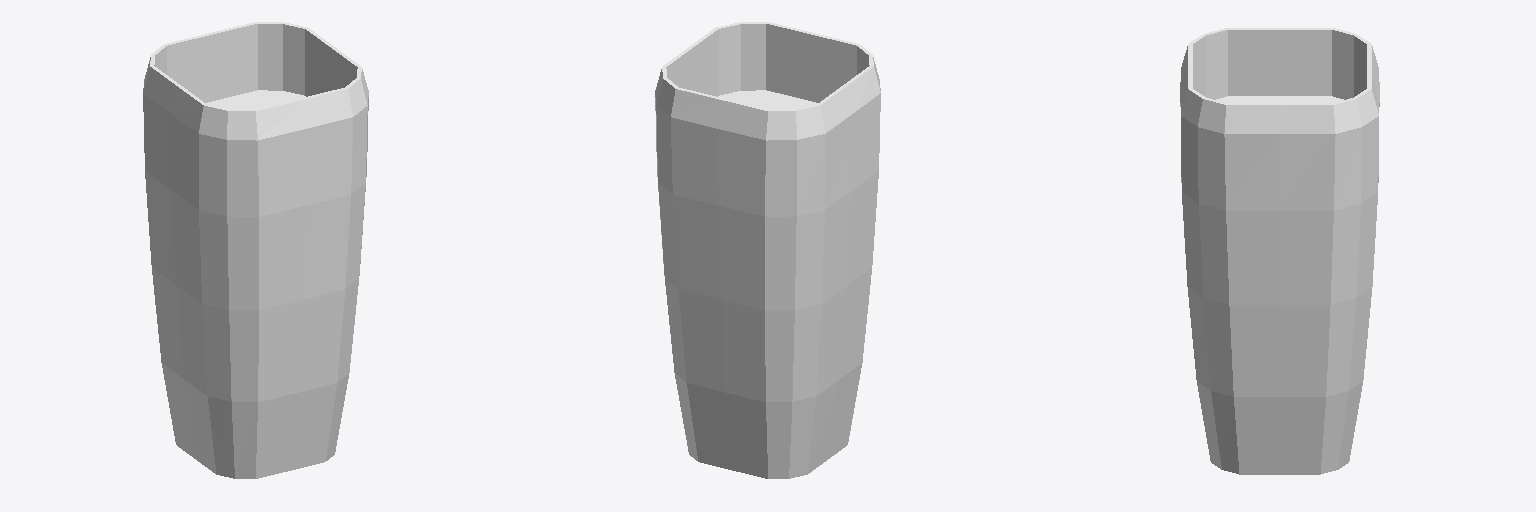
Rendered from 877953_LAVABO.obj.
The picture shows the model from 3 angles: view 1: azimuth 30°, elevation 25°; view 2: azimuth 150°, elevation 25°; view 3: azimuth 270°, elevation 25°; orthographic projection.
Visible parts, largest first — view 1: Plane007; view 2: Plane007; view 3: Plane007.
Boxes of the visible parts, box(x1,y1,x2,y2) form: Plane007: box(143, 22, 368, 478); Plane007: box(655, 22, 880, 478); Plane007: box(1180, 28, 1379, 474).
Bounding box in the file's own units: 18.6 × 39.38 × 18.78.